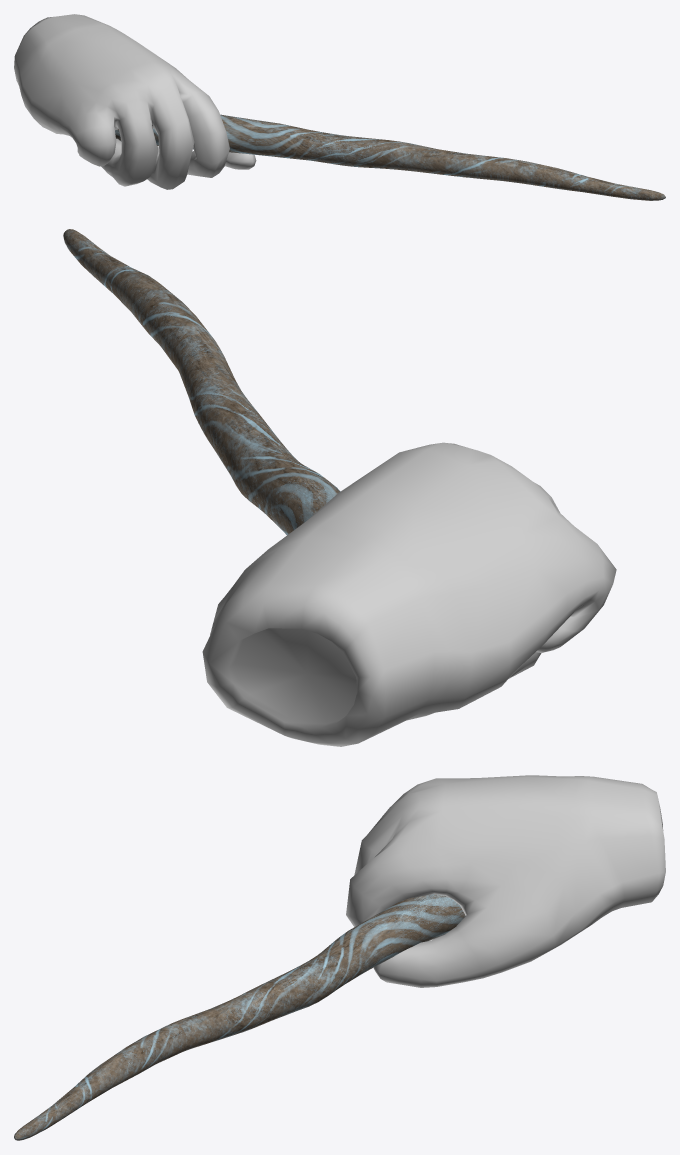
File: HandWandPlaceholder.fbx
3 renders of one model, top to bottom at view 1: azimuth 30°, elevation 25°; view 2: azimuth 150°, elevation 25°; view 3: azimuth 270°, elevation 25°, orthographic. The views are drawn at different scales.
Visible parts, largest first — view 1: HandWand; view 2: HandWand; view 3: HandWand.
Part boxes in pixels (left/top/right/bottom): HandWand: left=14, top=14, right=665, bottom=200; HandWand: left=63, top=229, right=616, bottom=746; HandWand: left=14, top=775, right=665, bottom=1140.
Size of the model in its own units: 8.41 by 2.19 by 8.58.
